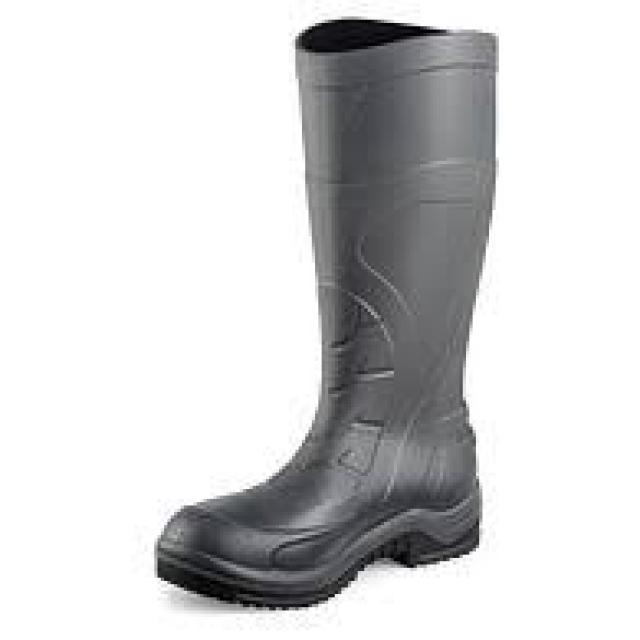shoes: (156, 20, 495, 607)
